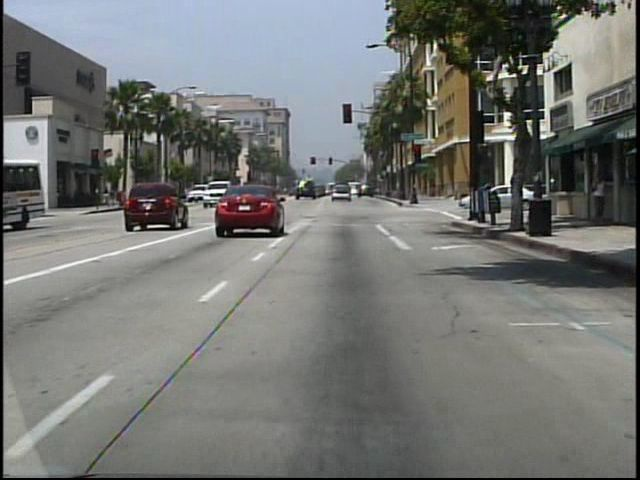person: (586, 168, 609, 227)
